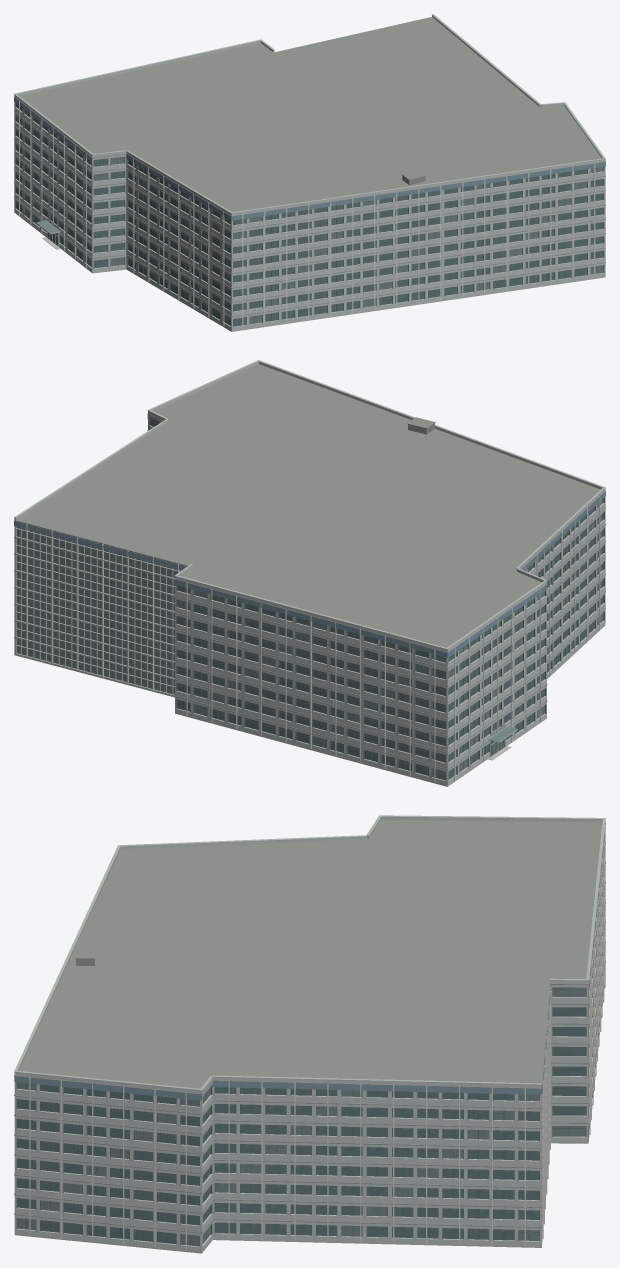
Rendered from mapped_1135310338.glb.
3 renders of one model, top to bottom at view 1: azimuth 30°, elevation 25°; view 2: azimuth 150°, elevation 25°; view 3: azimuth 270°, elevation 25°, orthographic. The views are drawn at different scales.
Parts seen in each view (by area): view 1: mapped_1135310338_FacultyRoof, mapped_1135310338_LabSilver, mapped_1135310338_WindowGlass, mapped_1135310338_FacultyDarkPanel, mapped_1135310338_WhiteTrim, mapped_1135310338_WindowAluminium, mapped_1135310338_WindowReveal, mapped_1135310338_WindowRubber, mapped_1135310338_WindowGlassLight, mapped_1135310338_LabBlue, mapped_1135310338_Teaching5TileJoint, mapped_1135310338_EntryStone; view 2: mapped_1135310338_FacultyRoof, mapped_1135310338_LabSilver, mapped_1135310338_WindowGlassLight, mapped_1135310338_WindowGlass, mapped_1135310338_WindowAluminium, mapped_1135310338_WhiteTrim, mapped_1135310338_FacultyDarkPanel, mapped_1135310338_WindowReveal, mapped_1135310338_WindowRubber, mapped_1135310338_LabBlue, mapped_1135310338_Teaching5TileJoint, mapped_1135310338_EntryStone; view 3: mapped_1135310338_FacultyRoof, mapped_1135310338_LabSilver, mapped_1135310338_WindowGlass, mapped_1135310338_WhiteTrim, mapped_1135310338_FacultyDarkPanel, mapped_1135310338_WindowAluminium, mapped_1135310338_WindowGlassLight, mapped_1135310338_WindowRubber, mapped_1135310338_WindowReveal, mapped_1135310338_Teaching5TileJoint, mapped_1135310338_LabBlue, mapped_1135310338_EntryStone.
Part boxes in pixels (x1,y1,x2,y2): mapped_1135310338_FacultyRoof: (19, 17, 601, 212); mapped_1135310338_LabSilver: (14, 15, 605, 330); mapped_1135310338_WindowGlass: (16, 103, 603, 326); mapped_1135310338_FacultyDarkPanel: (14, 96, 605, 317); mapped_1135310338_WhiteTrim: (19, 101, 595, 329); mapped_1135310338_WindowAluminium: (15, 107, 603, 327); mapped_1135310338_WindowReveal: (15, 102, 604, 326); mapped_1135310338_WindowRubber: (16, 112, 603, 325); mapped_1135310338_WindowGlassLight: (16, 110, 603, 325); mapped_1135310338_LabBlue: (14, 97, 605, 220); mapped_1135310338_Teaching5TileJoint: (14, 14, 605, 213); mapped_1135310338_EntryStone: (14, 212, 605, 331); mapped_1135310338_FacultyRoof: (16, 364, 600, 647); mapped_1135310338_LabSilver: (14, 362, 605, 785); mapped_1135310338_WindowGlassLight: (16, 417, 603, 780); mapped_1135310338_WindowGlass: (177, 506, 603, 779); mapped_1135310338_WindowAluminium: (14, 425, 604, 781); mapped_1135310338_WhiteTrim: (26, 497, 600, 782); mapped_1135310338_FacultyDarkPanel: (14, 413, 605, 769); mapped_1135310338_WindowReveal: (149, 417, 604, 780); mapped_1135310338_WindowRubber: (150, 419, 603, 778); mapped_1135310338_LabBlue: (14, 414, 605, 657); mapped_1135310338_Teaching5TileJoint: (14, 360, 605, 649); mapped_1135310338_EntryStone: (14, 625, 605, 786); mapped_1135310338_FacultyRoof: (18, 820, 602, 1088); mapped_1135310338_LabSilver: (14, 817, 604, 1252); mapped_1135310338_WindowGlass: (17, 1007, 586, 1243); mapped_1135310338_WhiteTrim: (29, 829, 605, 1250); mapped_1135310338_FacultyDarkPanel: (14, 822, 605, 1233); mapped_1135310338_WindowAluminium: (16, 841, 604, 1247); mapped_1135310338_WindowGlassLight: (17, 987, 586, 1246); mapped_1135310338_WindowRubber: (17, 987, 585, 1245); mapped_1135310338_WindowReveal: (16, 873, 602, 1246); mapped_1135310338_Teaching5TileJoint: (14, 815, 605, 1090); mapped_1135310338_LabBlue: (14, 828, 605, 1100); mapped_1135310338_EntryStone: (14, 989, 604, 1253).
Size of the model in its own units: 104 by 29.48 by 92.51.
